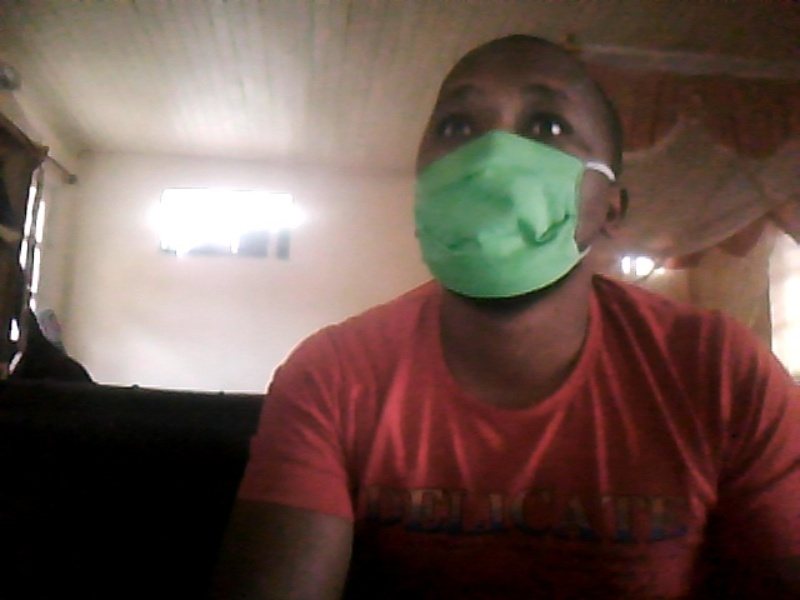ManaoArotava: (403, 25, 638, 331)
